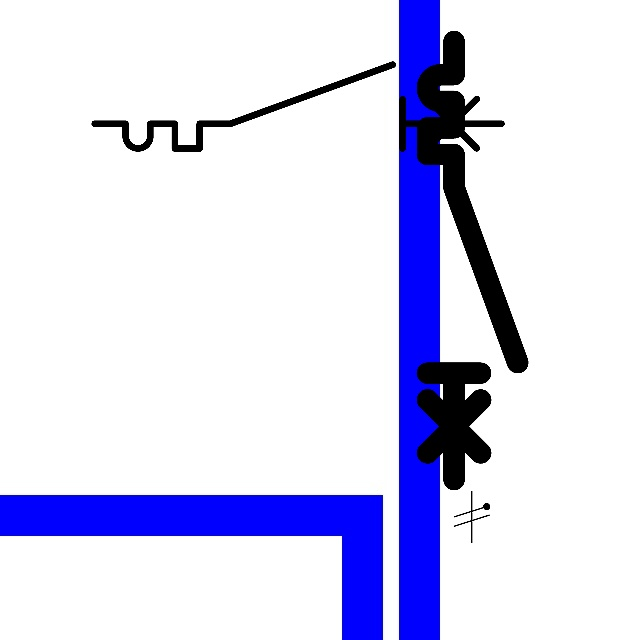interruptor_termomagnetico: (416, 30, 529, 491), (84, 54, 512, 159)
